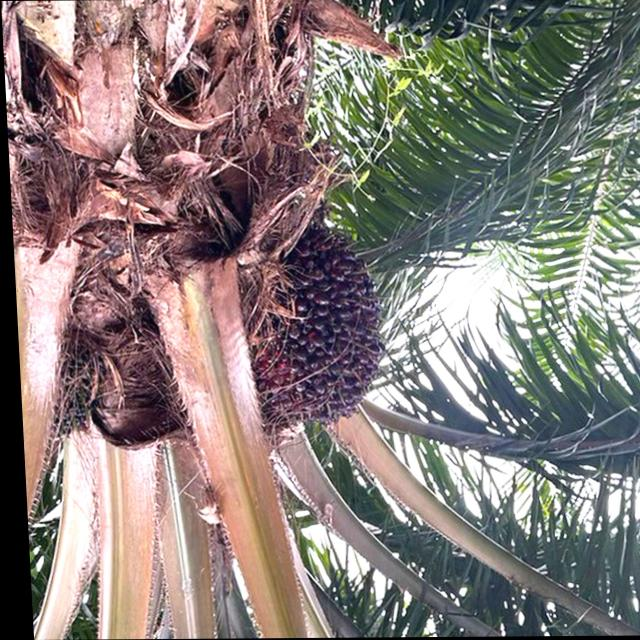ripe: (244, 236, 384, 431)
